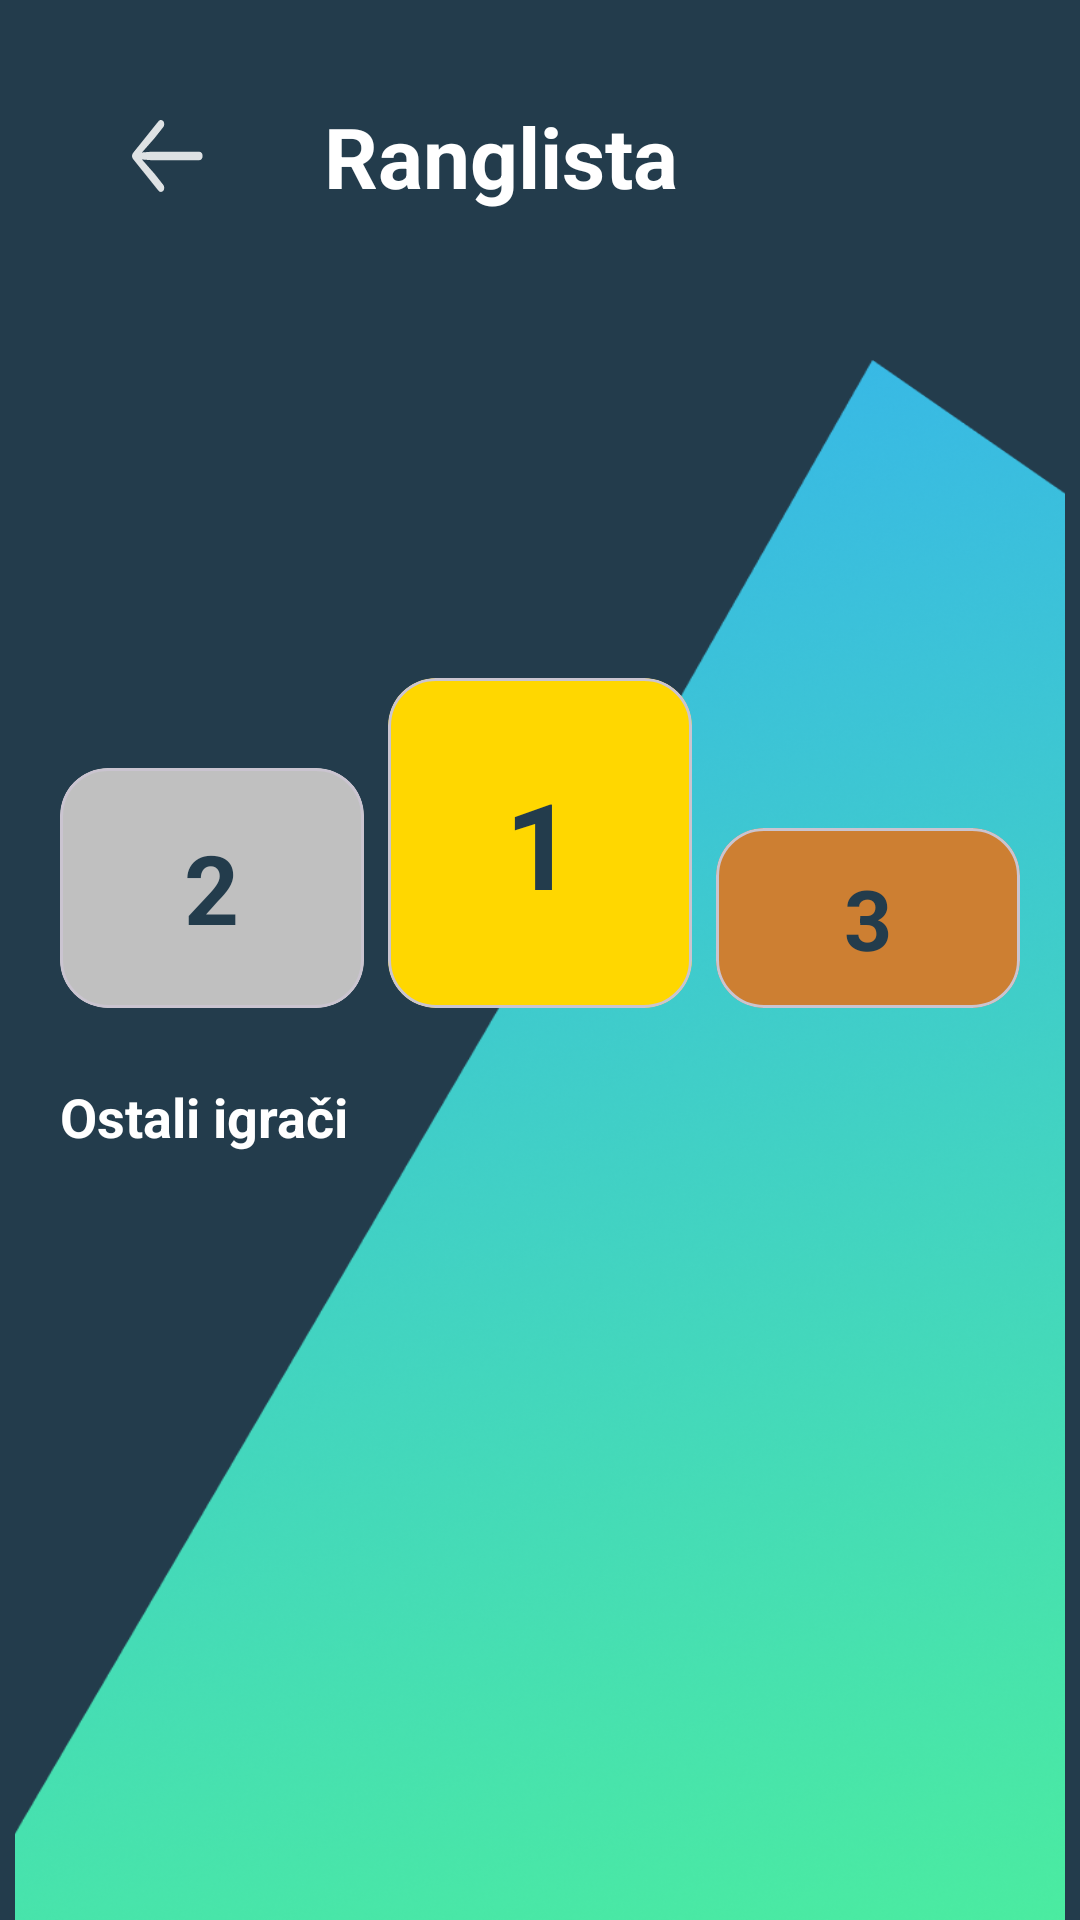

Icons on this 1080x1920 Android screen, each with the point to tap as point (x, y):
Nazad: point (167, 156)
